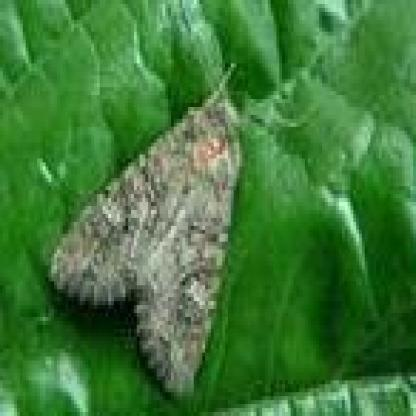armyworm: (42, 60, 256, 416)
